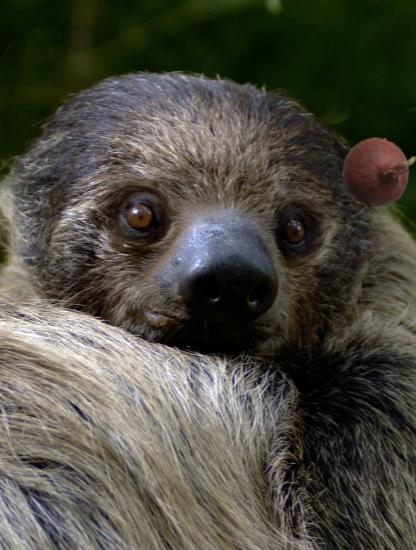Onion: (341, 137, 411, 207)
